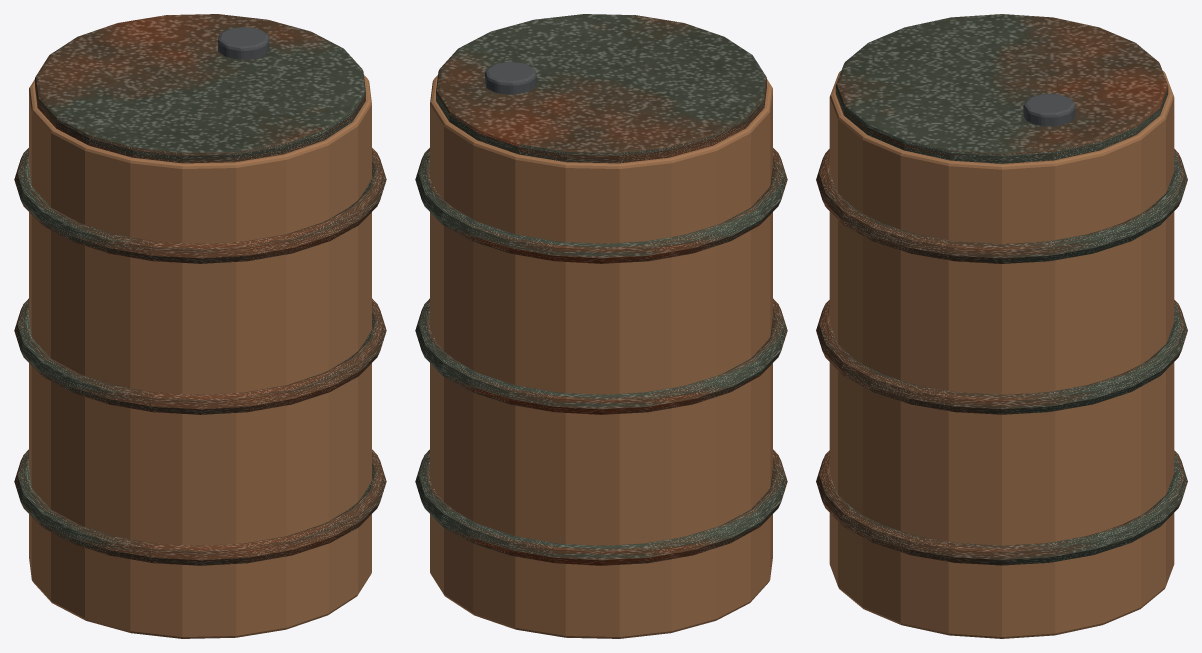
The model's file is barrel.glb.
The picture shows the model from 3 angles, left to right: view 1: azimuth 30°, elevation 25°; view 2: azimuth 150°, elevation 25°; view 3: azimuth 270°, elevation 25°; orthographic projection.
Parts seen in each view (by area): view 1: Drum, Lid, Rib_0.16, Rib_0.44, Rib_0.72, Bung; view 2: Drum, Lid, Rib_0.16, Rib_0.44, Rib_0.72, Bung; view 3: Drum, Lid, Rib_0.44, Rib_0.16, Rib_0.72, Bung.
Part boxes in pixels (box(x1,y1,x2,y2)): Drum: box(29, 75, 371, 638); Lid: box(35, 14, 365, 163); Rib_0.16: box(14, 449, 386, 565); Rib_0.44: box(14, 298, 386, 414); Rib_0.72: box(14, 148, 386, 263); Bung: box(218, 27, 269, 59); Drum: box(430, 75, 772, 638); Lid: box(436, 14, 766, 163); Rib_0.16: box(415, 449, 787, 565); Rib_0.44: box(415, 298, 787, 414); Rib_0.72: box(415, 148, 787, 263); Bung: box(485, 62, 536, 94); Drum: box(829, 71, 1174, 638); Lid: box(835, 14, 1168, 163); Rib_0.44: box(816, 300, 1187, 414); Rib_0.16: box(816, 450, 1187, 565); Rib_0.72: box(816, 149, 1187, 263); Bung: box(1023, 94, 1075, 126).
Size of the model in its own units: 0.626 by 0.9225 by 0.626.
3 materials, 1 textured.
